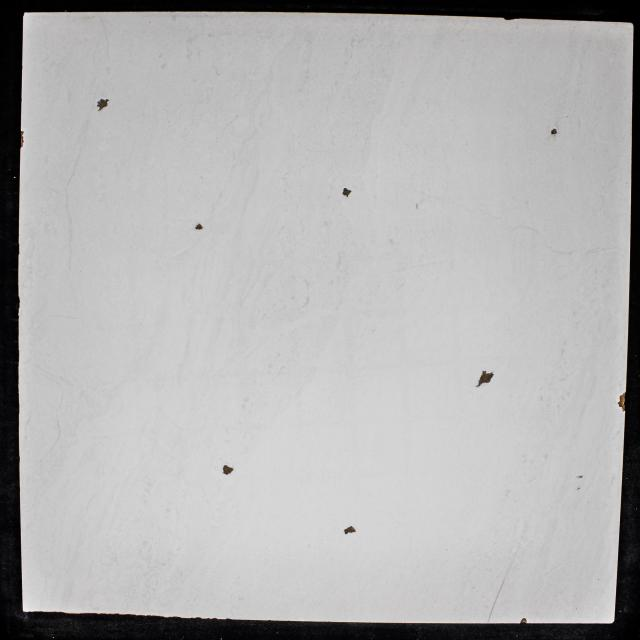edge-chipping: (616, 392, 626, 413), (503, 16, 518, 22), (20, 130, 24, 148), (519, 617, 527, 625)
hole: (475, 369, 495, 388), (96, 98, 110, 111), (222, 464, 234, 476), (344, 525, 356, 535), (342, 187, 352, 198), (194, 222, 204, 230), (550, 128, 558, 136), (576, 474, 584, 480)
line: (487, 553, 517, 623)
